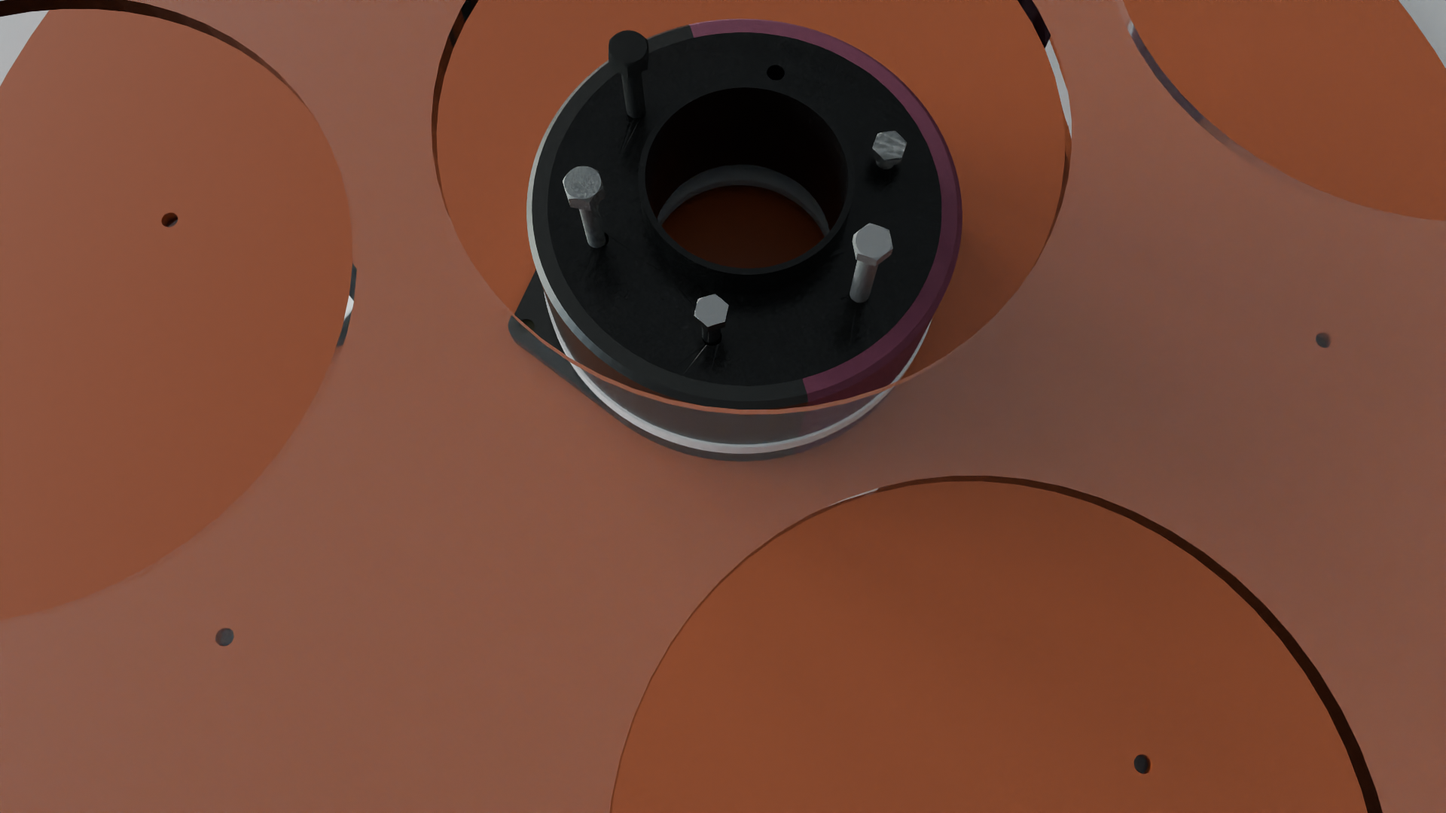bolt: (609, 30, 648, 69), (563, 166, 604, 203), (854, 223, 893, 260), (694, 294, 729, 327), (872, 131, 908, 160)
